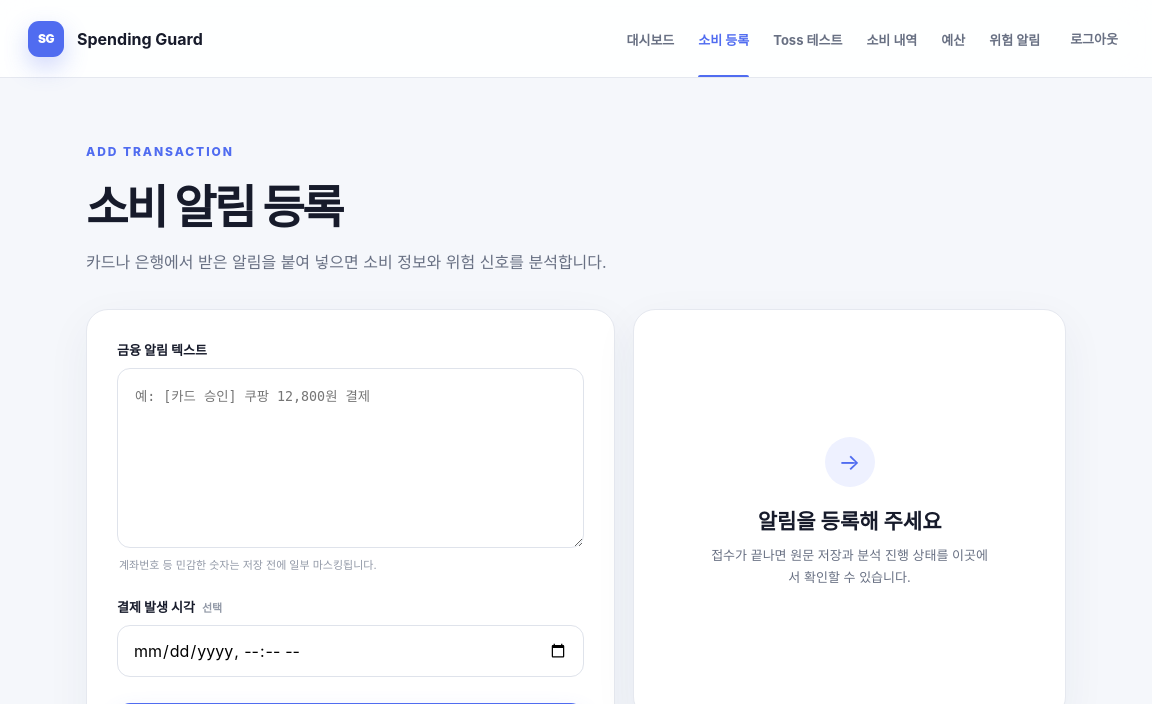
SpendEventSubmissionView › shows a submission failure without presenting it as accepted
The width and height of the screenshot is (1152, 704).
Type "배달 18,000원" into the text box labelled "금융 알림 텍스트" at (351, 458), box x1=117 y1=368 x2=584 y2=548
(page scrolled)
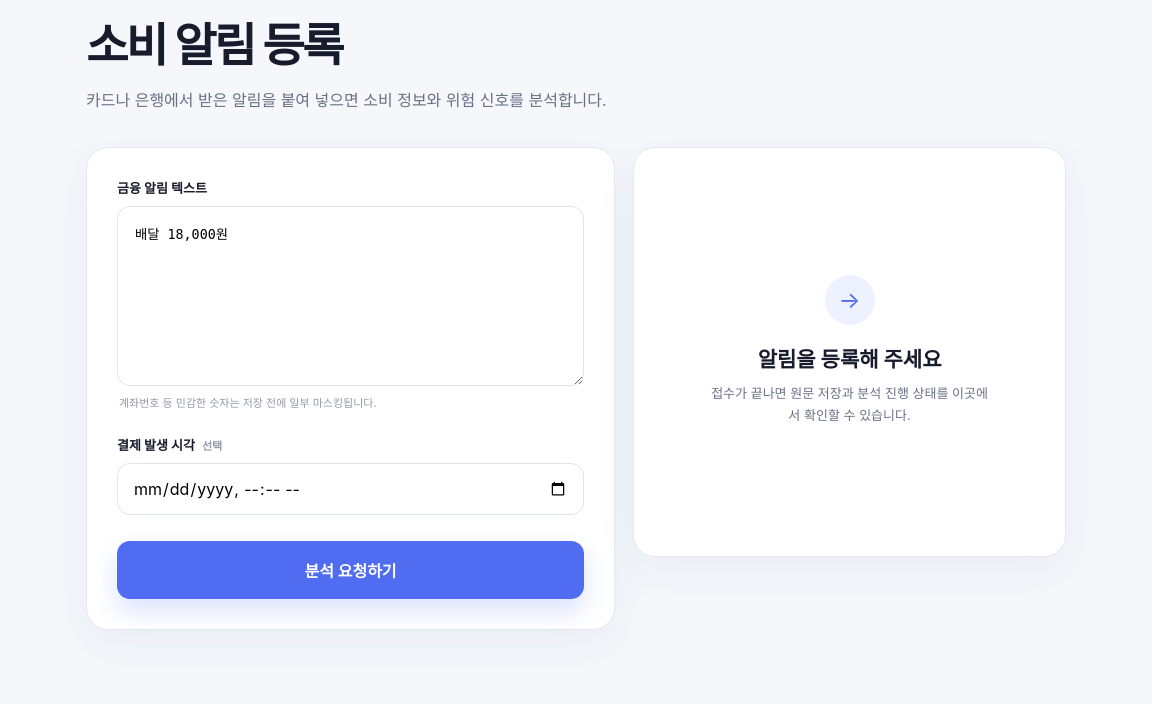
Submit the form "분석 요청하기", box x1=86 y1=147 x2=615 y2=630
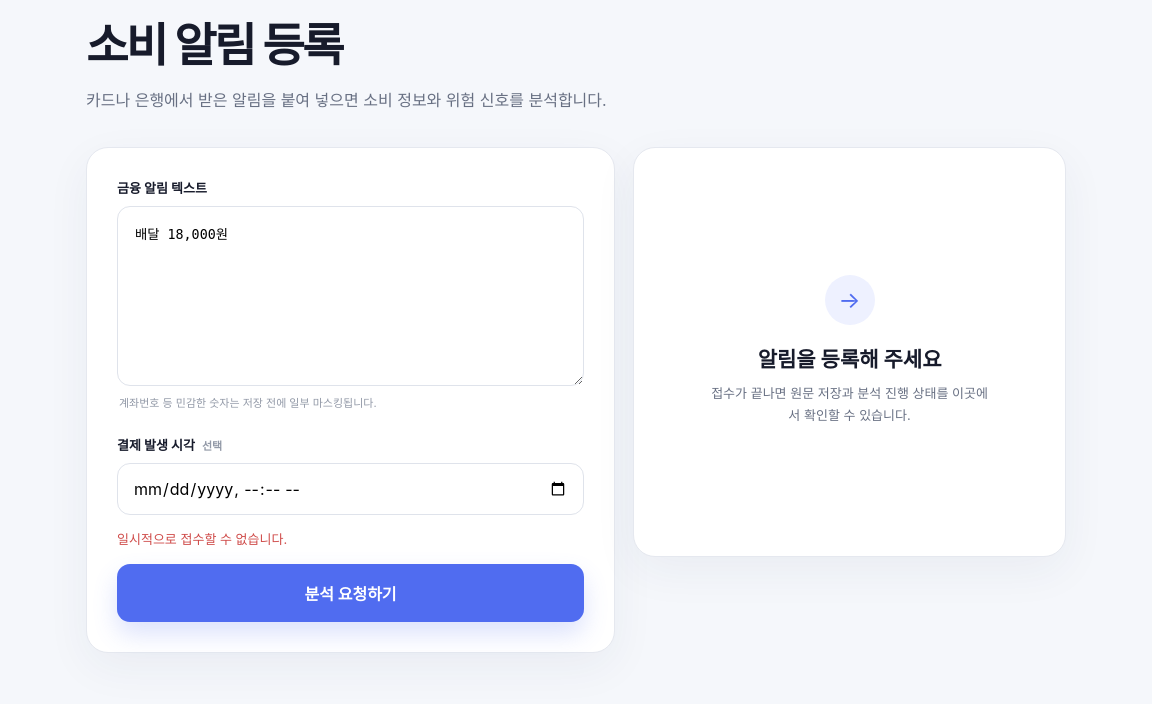
expect the message shows "일시적으로": met, box x1=117 y1=531 x2=287 y2=547
